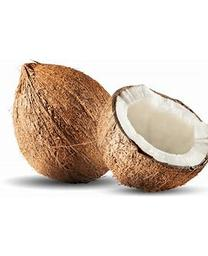coconut: (11, 62, 124, 185), (97, 83, 207, 192)
